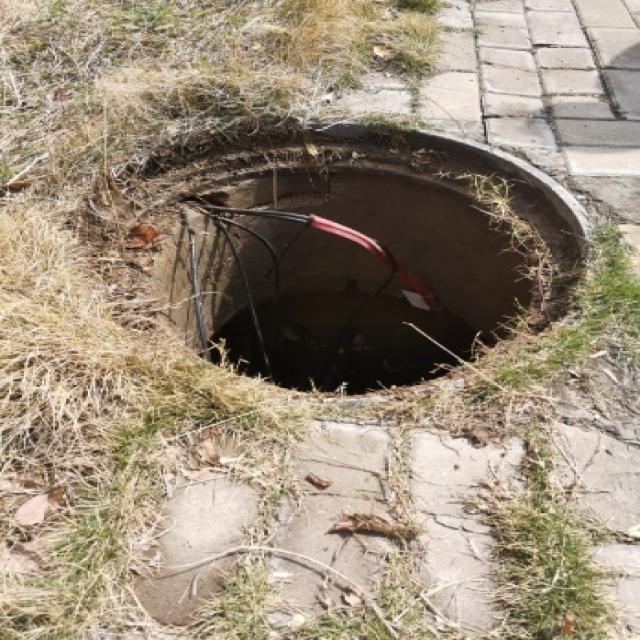Faulty: (32, 97, 618, 452)
